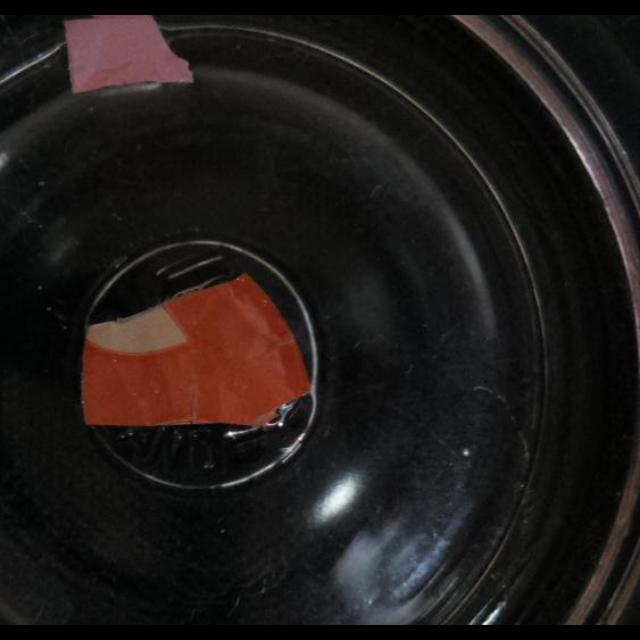Fragment: (83, 273, 310, 429), (64, 16, 190, 94)
